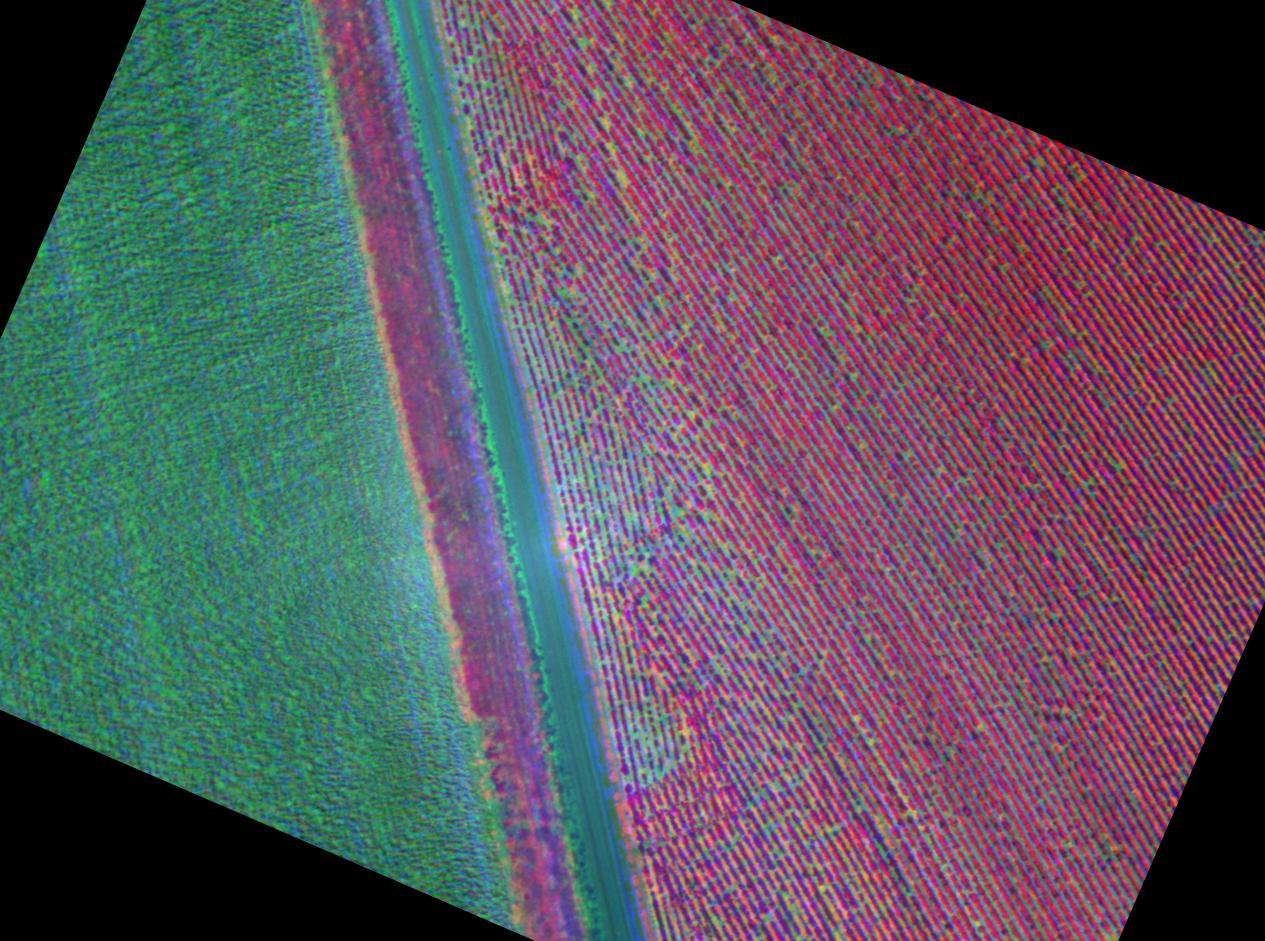dc: (619, 174, 625, 180), (637, 732, 642, 738), (667, 760, 672, 766), (819, 887, 824, 893), (731, 294, 735, 298), (641, 376, 645, 380), (688, 413, 692, 417)
